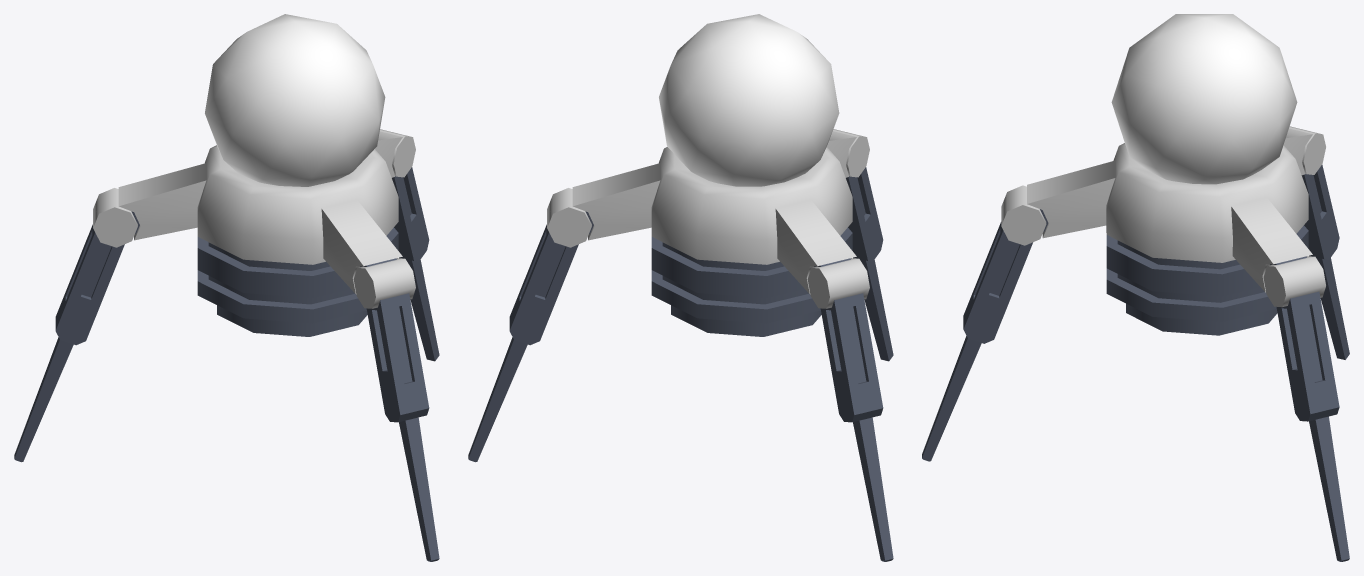
The model's file is Obstacle 1.fbx.
The picture shows the model from 3 angles, left to right: view 1: azimuth 30°, elevation 25°; view 2: azimuth 150°, elevation 25°; view 3: azimuth 270°, elevation 25°; orthographic projection.
Parts seen in each view (by area): view 1: Obstacle Body, Leg 1, Leg 3, Leg 2; view 2: Obstacle Body, Leg 3, Leg 2, Leg 1; view 3: Obstacle Body, Leg 2, Leg 1, Leg 3.
Part boxes in pixels (box(x1,y1,x2,y2)): Obstacle Body: box(118, 14, 402, 336); Leg 1: box(353, 258, 439, 561); Leg 3: box(14, 188, 137, 462); Leg 2: box(379, 129, 439, 361); Obstacle Body: box(572, 14, 856, 336); Leg 3: box(807, 258, 893, 561); Leg 2: box(468, 188, 591, 462); Leg 1: box(833, 129, 893, 361); Obstacle Body: box(1027, 14, 1312, 335); Leg 2: box(1263, 256, 1349, 561); Leg 1: box(922, 185, 1046, 461); Leg 3: box(1289, 126, 1349, 359).
Bounding box in the file's own units: 70.21 × 69.31 × 60.8.
